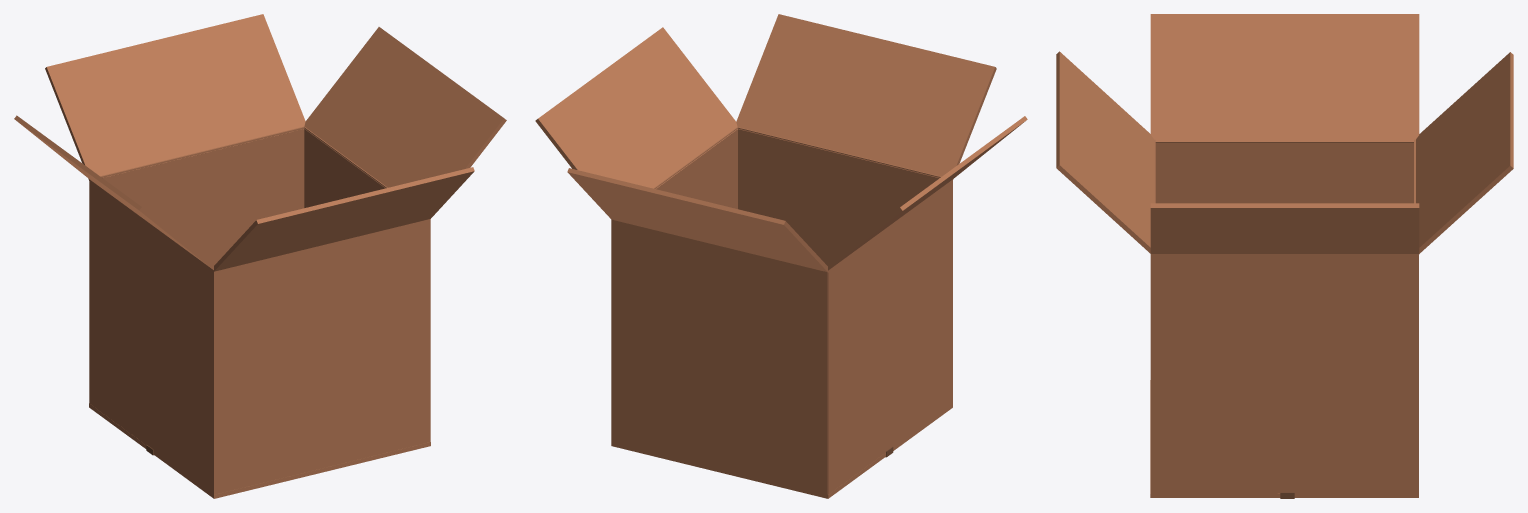
3 renders of one model, left to right at view 1: azimuth 30°, elevation 25°; view 2: azimuth 150°, elevation 25°; view 3: azimuth 270°, elevation 25°, orthographic. The views are drawn at different scales.
Visible parts, largest first — view 1: mesh_id78, mesh_id33, mesh_id123, mesh_id134, mesh_id40, mesh_id115, mesh_id76, mesh_id136, mesh_id91; view 2: mesh_id40, mesh_id33, mesh_id115, mesh_id134, mesh_id78, mesh_id123, mesh_id76, mesh_id136, mesh_id99; view 3: mesh_id76, mesh_id136, mesh_id33, mesh_id134, mesh_id115, mesh_id123, mesh_id91, mesh_id99.
Part boxes in pixels (box(x1,y1,x2,y2)): mesh_id78: box(218, 219, 429, 493); mesh_id33: box(89, 179, 217, 494); mesh_id123: box(45, 14, 305, 180); mesh_id134: box(304, 27, 506, 220); mesh_id40: box(100, 126, 304, 264); mesh_id115: box(214, 167, 474, 271); mesh_id76: box(304, 126, 430, 441); mesh_id136: box(14, 115, 217, 272); mesh_id91: box(153, 442, 430, 498); mesh_id40: box(611, 220, 827, 494); mesh_id33: box(827, 179, 952, 494); mesh_id115: box(736, 14, 996, 179); mesh_id134: box(535, 27, 737, 220); mesh_id78: box(738, 127, 941, 265); mesh_id123: box(567, 168, 828, 272); mesh_id76: box(611, 127, 737, 339); mesh_id136: box(824, 116, 1027, 272); mesh_id99: box(611, 442, 885, 498); mesh_id76: box(1151, 254, 1418, 493); mesh_id136: box(1150, 14, 1419, 142); mesh_id33: box(1155, 143, 1413, 203); mesh_id134: box(1150, 203, 1419, 253); mesh_id115: box(1056, 51, 1154, 255); mesh_id123: box(1416, 52, 1513, 255); mesh_id91: box(1150, 380, 1280, 497); mesh_id99: box(1294, 494, 1418, 497).
Bounding box in the file's own units: 0.6411 × 0.5173 × 0.6431.
Materials: 12 (12 with a texture image).
